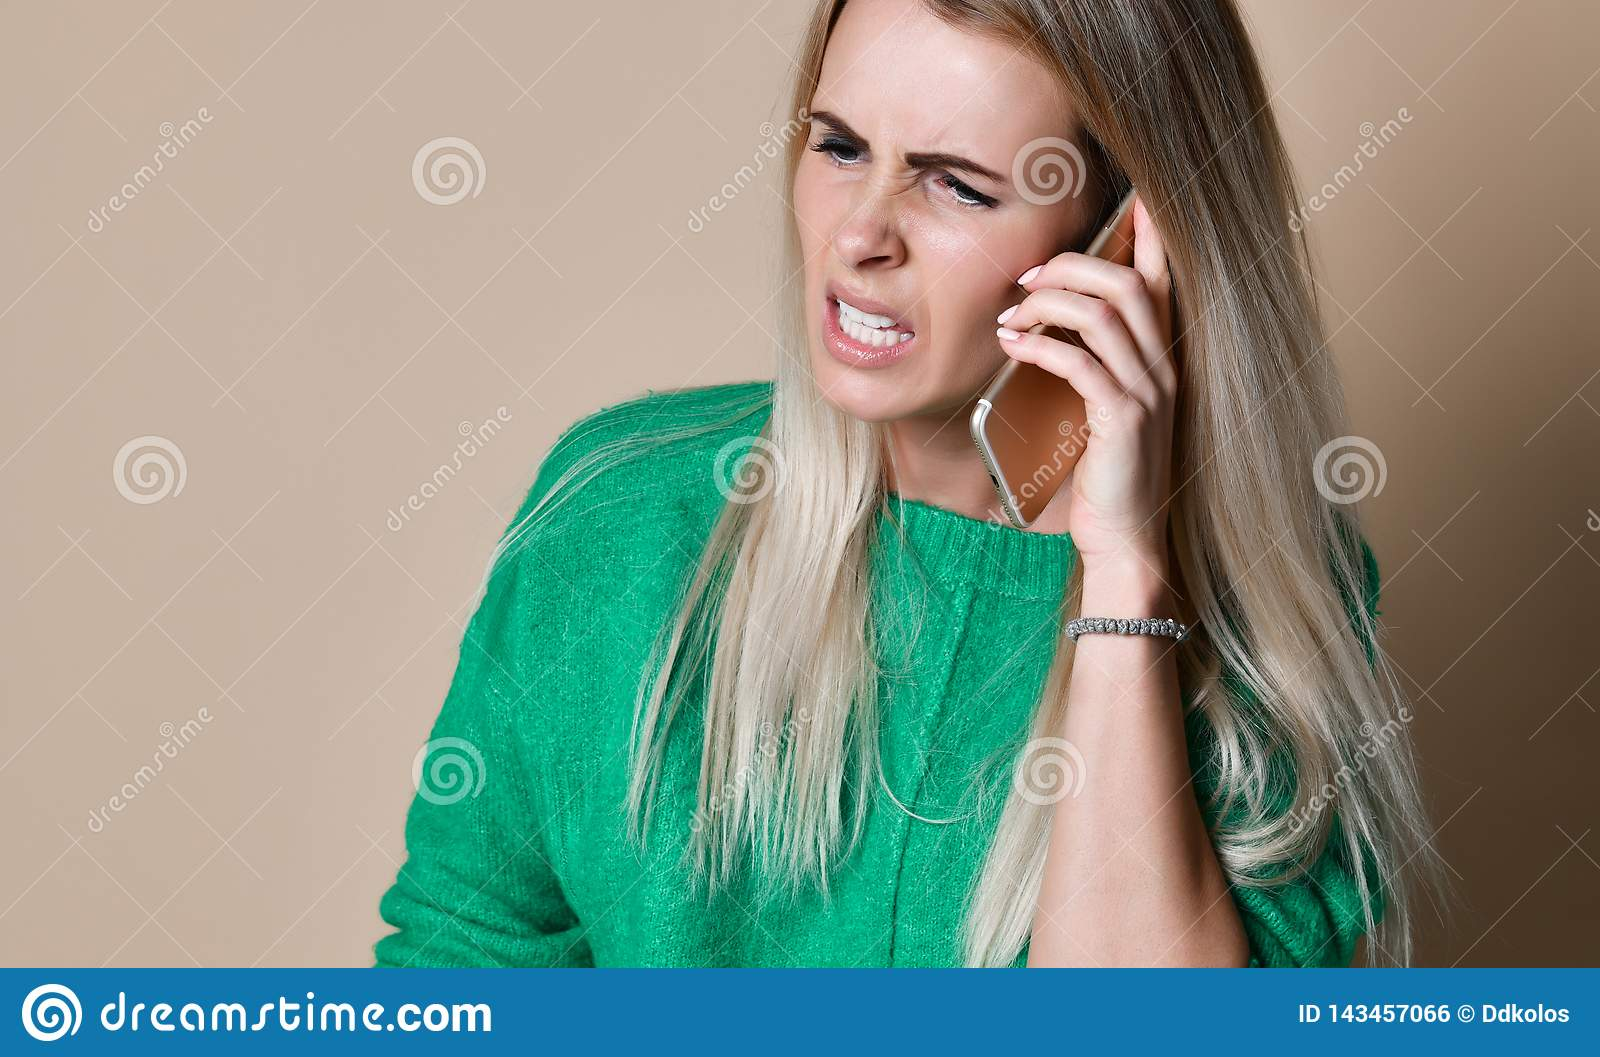phone: (968, 173, 1161, 537)
talk: (796, 83, 1178, 615)
